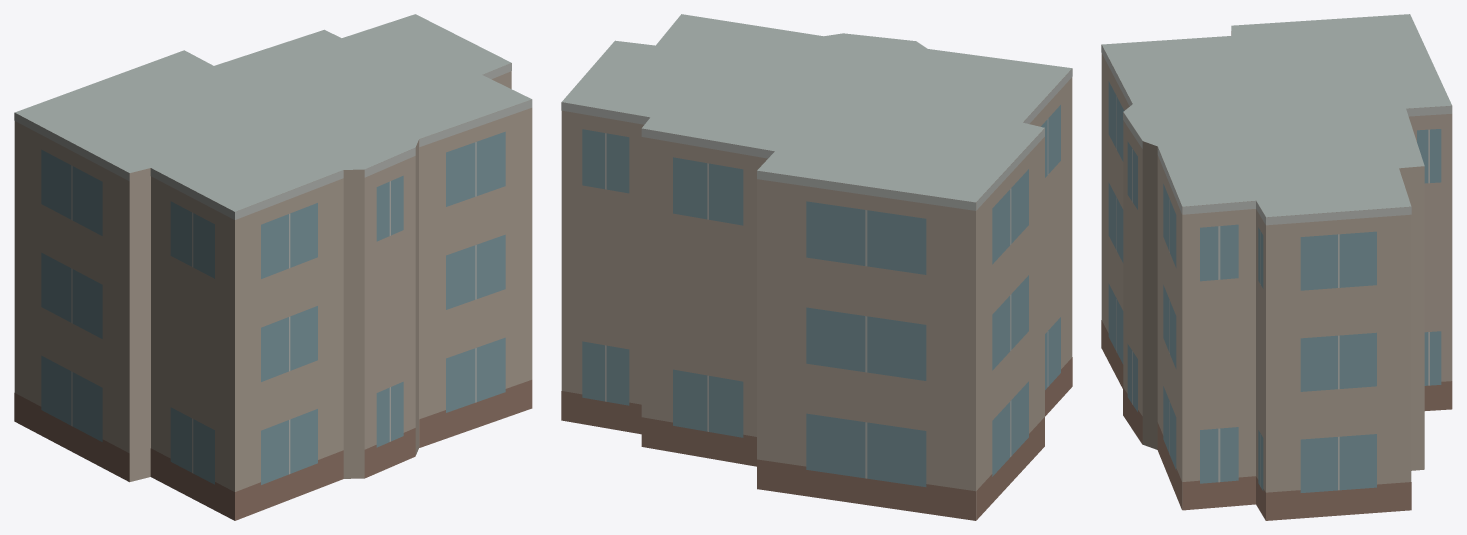
Rendered from survey-upis-32507277.glb.
The picture shows the model from 3 angles, left to right: view 1: azimuth 30°, elevation 25°; view 2: azimuth 150°, elevation 25°; view 3: azimuth 270°, elevation 25°; orthographic projection. The views are drawn at different scales.
Parts seen in each view (by area): view 1: survey-upis-32507277.tmp; view 2: survey-upis-32507277.tmp; view 3: survey-upis-32507277.tmp.
Part boxes in pixels (x1,y1,x2,y2): survey-upis-32507277.tmp: (14,14,532,520); survey-upis-32507277.tmp: (561,14,1072,520); survey-upis-32507277.tmp: (1101,14,1452,520).
Size of the model in its own units: 13.14 by 9.15 by 9.59.
